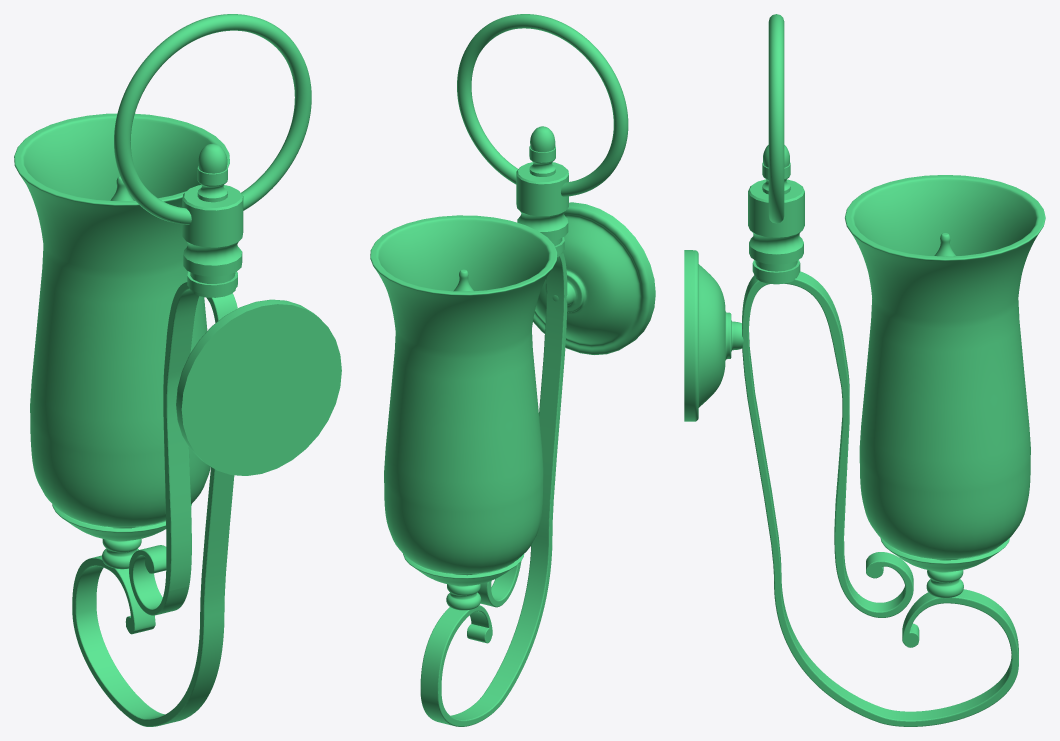
File: lampadario.obj
3 renders of one model, left to right at view 1: azimuth 30°, elevation 25°; view 2: azimuth 150°, elevation 25°; view 3: azimuth 270°, elevation 25°, orthographic. The views are drawn at different scales.
Parts seen in each view (by area): view 1: Line03; view 2: Line03; view 3: Line03.
Part boxes in pixels (x1=…): Line03: x1=14, y1=14, x2=341, y2=726; Line03: x1=370, y1=14, x2=655, y2=726; Line03: x1=684, y1=14, x2=1045, y2=726.
Bounding box in the file's own units: 139 × 510 × 239.
